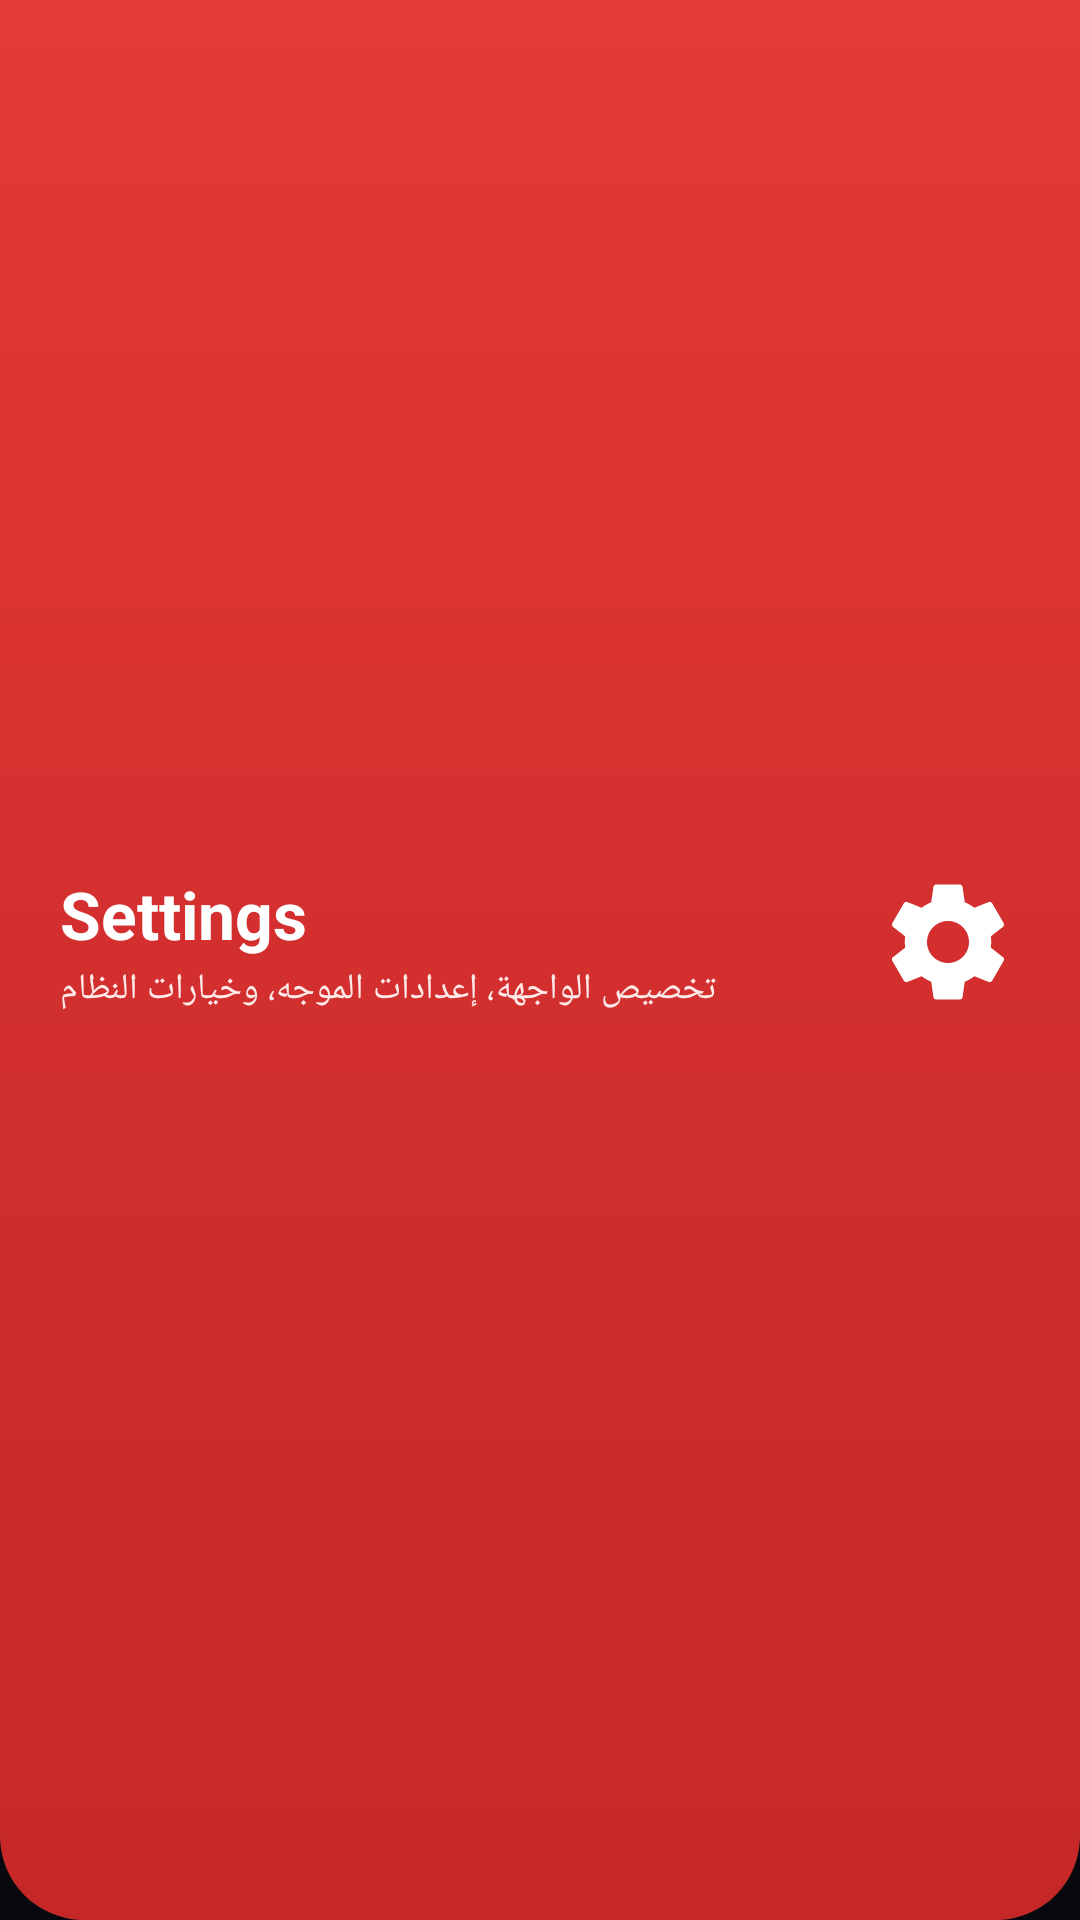

Icons on this 1080 × 1920 Android screen, each with its box as (left=x1, top=y1, right=x2, bottom=y2):
settings: (left=892, top=884, right=1004, bottom=1000)
